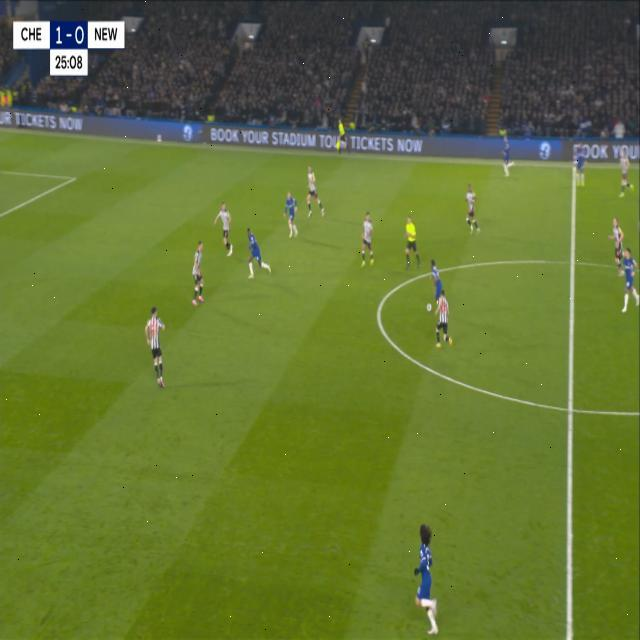Ball: (424, 298, 432, 316)
Chelsea: (410, 516, 442, 636), (242, 221, 272, 283), (620, 243, 640, 316), (282, 186, 298, 242), (428, 255, 446, 298)
Newcastle: (142, 300, 168, 393), (303, 160, 325, 225), (461, 176, 482, 243), (190, 234, 208, 310), (214, 198, 235, 262), (435, 288, 452, 352), (359, 207, 376, 270)
Refree: (403, 211, 421, 271)
